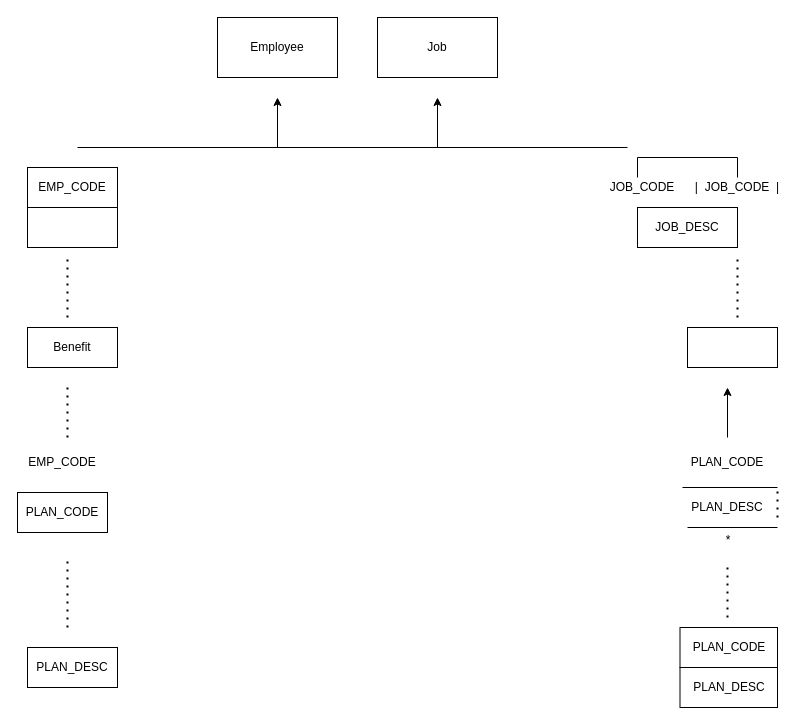
Image size: 805x725. Some labels were removed from this diagram. The centre of each missing label's shape, as x and y in pixels:
EMP_NAME: pixel 72 227
Plan: pixel 732 347
